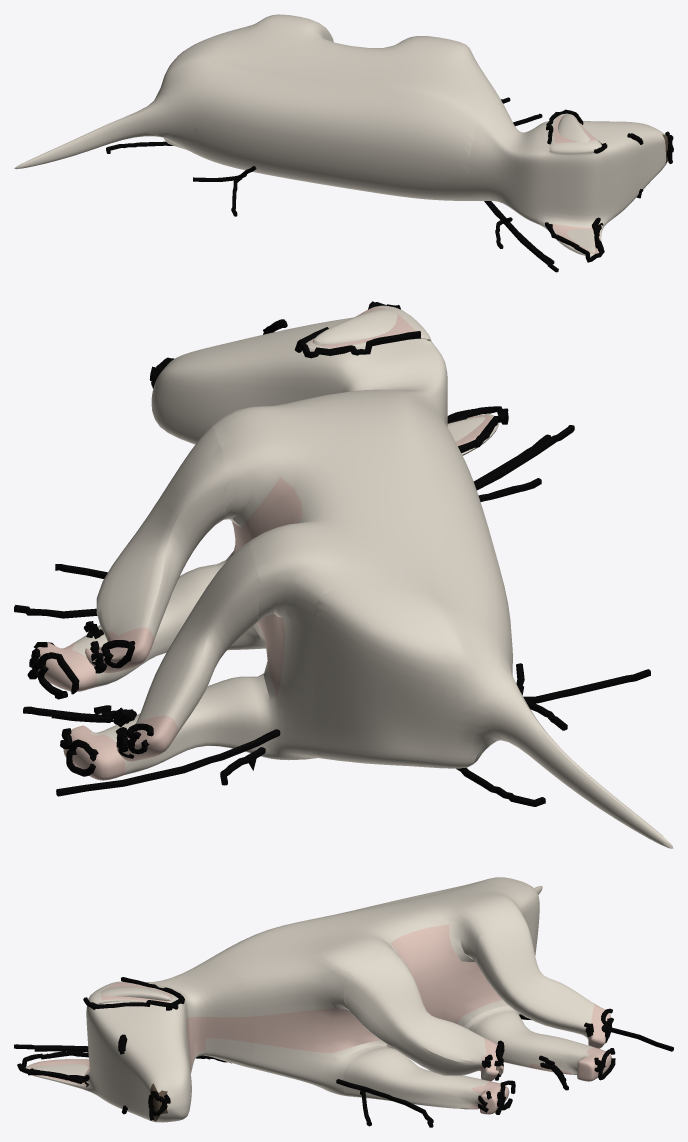
The model's file is sirius.glb.
The picture shows the model from 3 angles, top to bottom: view 1: azimuth 30°, elevation 25°; view 2: azimuth 150°, elevation 25°; view 3: azimuth 270°, elevation 25°; orthographic projection. The views are drawn at different scales.
Parts seen in each view (by area): view 1: Sirius, lines_sirius; view 2: Sirius, lines_sirius; view 3: Sirius, lines_sirius.
Boxes of the visible parts, box(x1,y1,x2,y2) form: Sirius: box(14, 14, 668, 256); lines_sirius: box(106, 97, 673, 272); Sirius: box(31, 305, 673, 848); lines_sirius: box(14, 301, 650, 806); Sirius: box(25, 877, 611, 1122); lines_sirius: box(14, 977, 673, 1127).
Bounding box in the file's own units: 0.7262 × 0.183 × 0.7825.
